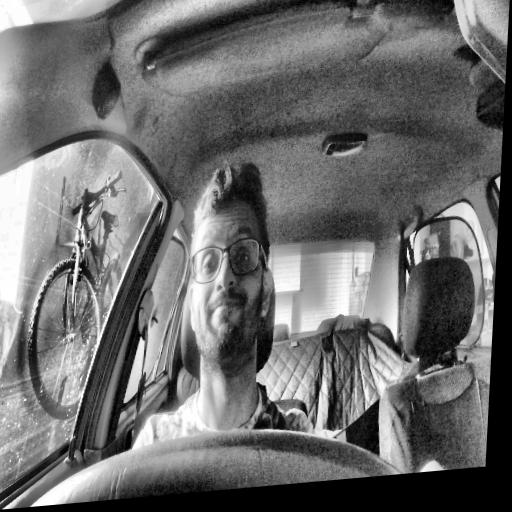awake: (185, 157, 280, 376)
